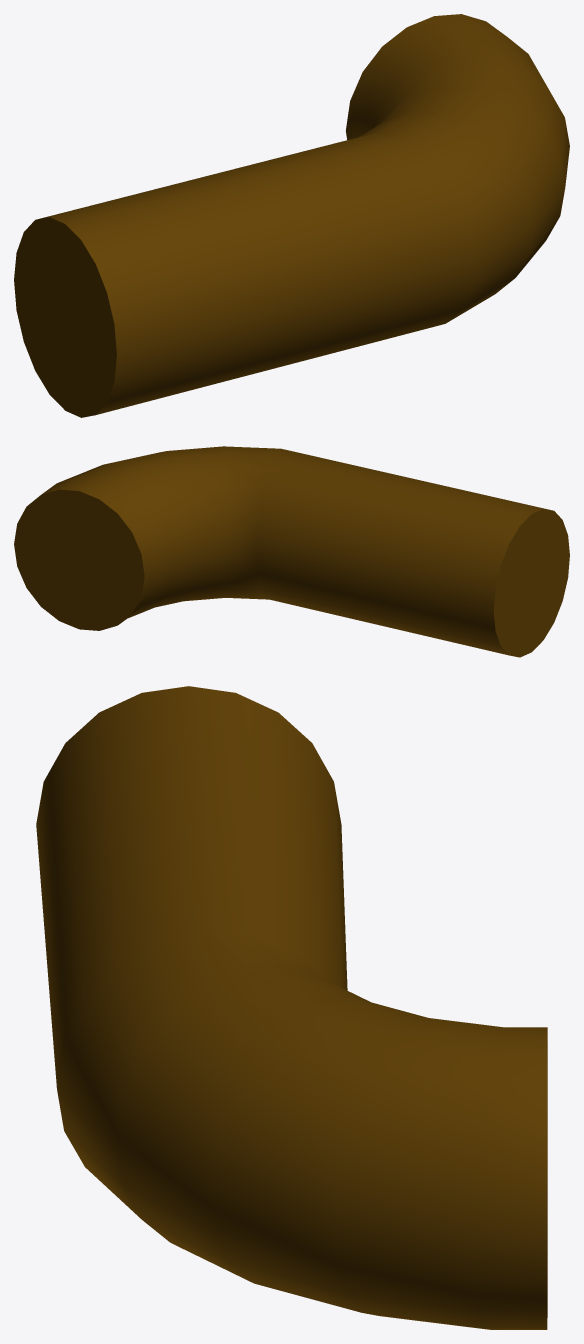
File: 48_fallen_pipe3.fbx
3 views of the same model, one above another, from view 1: azimuth 30°, elevation 25°; view 2: azimuth 150°, elevation 25°; view 3: azimuth 270°, elevation 25° (orthographic). The views are drawn at different scales.
Visible parts, largest first — view 1: pCylinder189; view 2: pCylinder189; view 3: pCylinder189.
Part boxes in pixels (x1,y1,x2,y2): pCylinder189: [14, 14, 569, 417]; pCylinder189: [14, 446, 569, 657]; pCylinder189: [36, 686, 547, 1329].
Size of the model in its own units: 0.4201 by 0.1297 by 0.2173.
